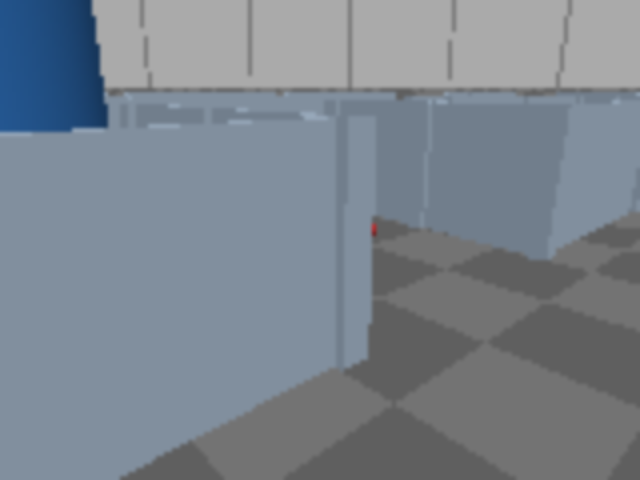person: (0, 0, 127, 374)
